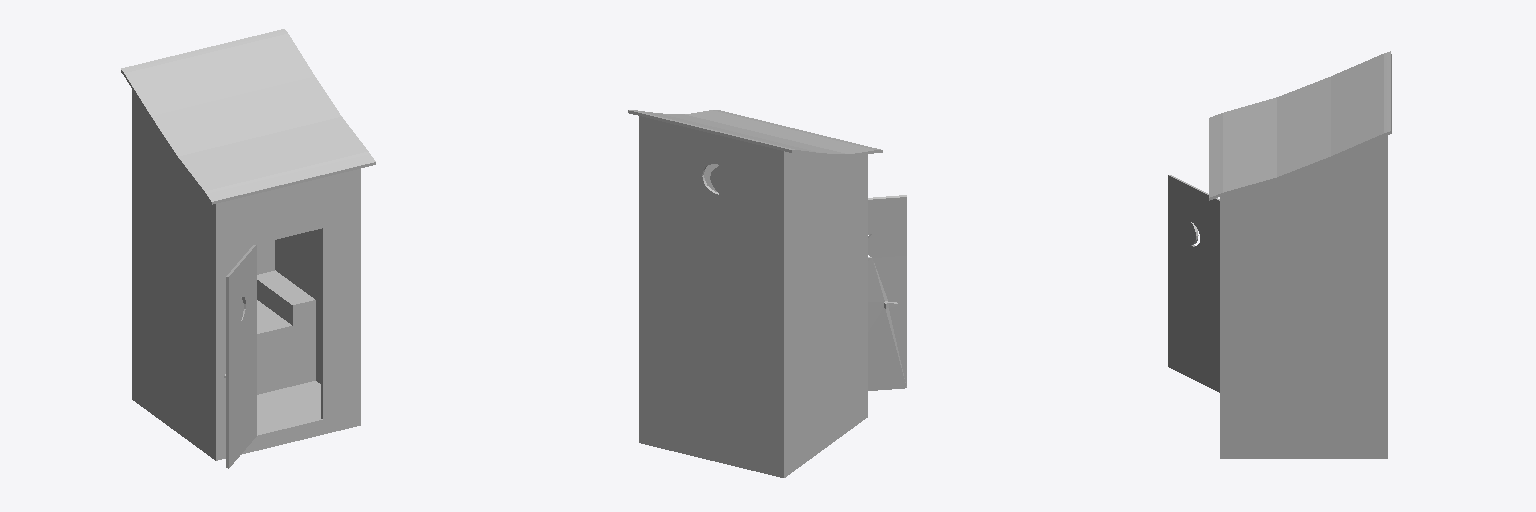
File: lavatory.obj
3 views of the same model, side by side, from view 1: azimuth 30°, elevation 25°; view 2: azimuth 150°, elevation 25°; view 3: azimuth 270°, elevation 25° (orthographic).
Visible parts, largest first — view 1: bathroom, Door; view 2: bathroom, Door; view 3: bathroom, Door.
Part boxes in pixels (x1,y1,x2,y2): bathroom: (121,29,375,460); Door: (224,245,256,468); bathroom: (628,110,882,477); Door: (868,195,906,390); bathroom: (1209,51,1391,458); Door: (1168,175,1219,392).
Bounding box in the file's own units: 2.05 × 3.86 × 2.35.